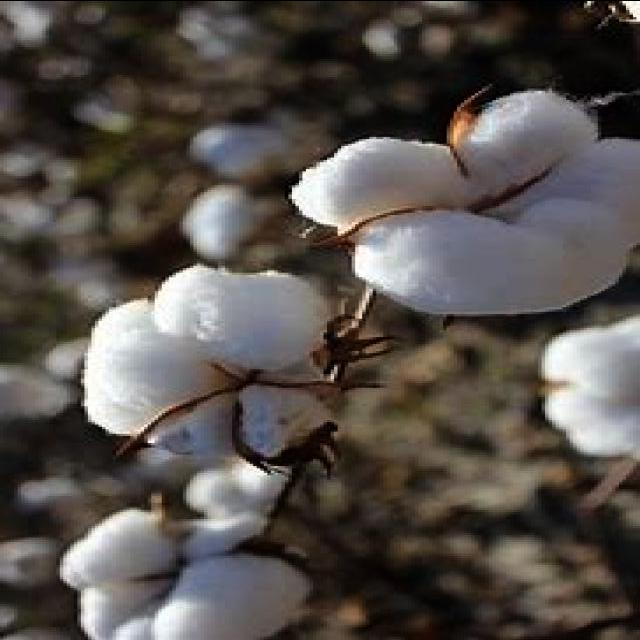Matured Cotton Boll: (292, 81, 640, 319), (74, 266, 339, 470), (57, 502, 310, 640)
